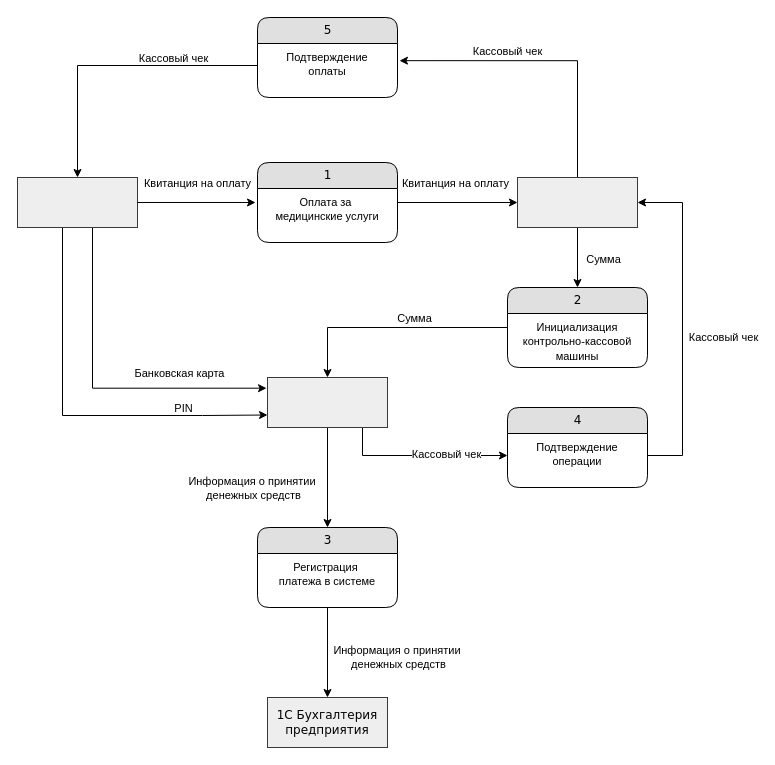
This 775x765 diagram has some shape labels left out. The centre of each missing label's shape, as x and y in pixels:
Кассир: the point at 577,202
Контрольно-кассовая машина: the point at 327,402
Пациент: the point at 77,202
